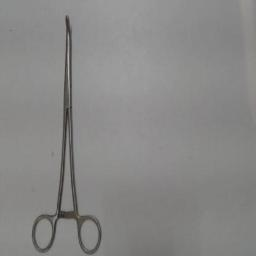Lahey Forceps: (30, 12, 102, 254)
